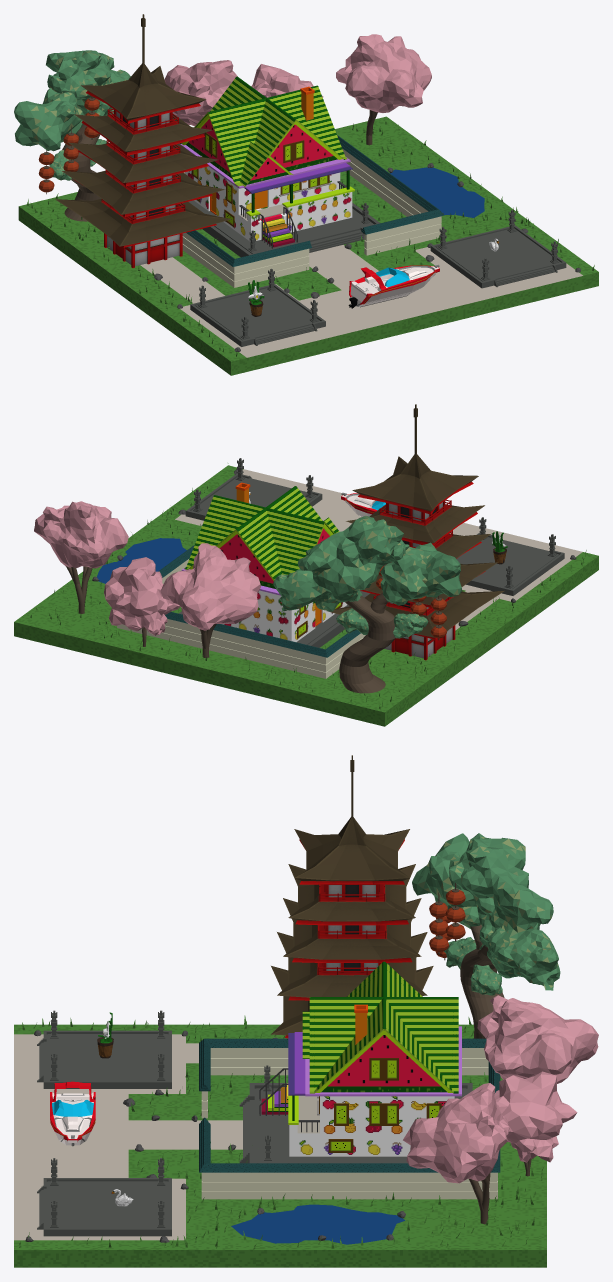
3 views of the same model, one above another, from view 1: azimuth 30°, elevation 25°; view 2: azimuth 150°, elevation 25°; view 3: azimuth 270°, elevation 25° (orthographic). The views are drawn at different scales.
Visible parts, largest first — view 1: Cube.005, Cube.1063, VEHICLES_BOAT; view 2: Cube.005, Cube.1063, VEHICLES_BOAT; view 3: Cube.005, Cube.1063, VEHICLES_BOAT.
Boxes of the visible parts, x1=… form: Cube.005: x1=14, y1=14, x2=598, y2=375; Cube.1063: x1=179, y1=76, x2=354, y2=248; VEHICLES_BOAT: x1=348, y1=264, x2=439, y2=308; Cube.005: x1=14, y1=404, x2=598, y2=726; Cube.1063: x1=181, y1=482, x2=347, y2=642; VEHICLES_BOAT: x1=341, y1=492, x2=385, y2=516; Cube.005: x1=14, y1=755, x2=598, y2=1267; Cube.1063: x1=259, y1=961, x2=461, y2=1156; VEHICLES_BOAT: x1=50, y1=1081, x2=95, y2=1146.
Size of the model in its own units: 4528 by 2791 by 4389.
Materials: 37 (7 with a texture image).
